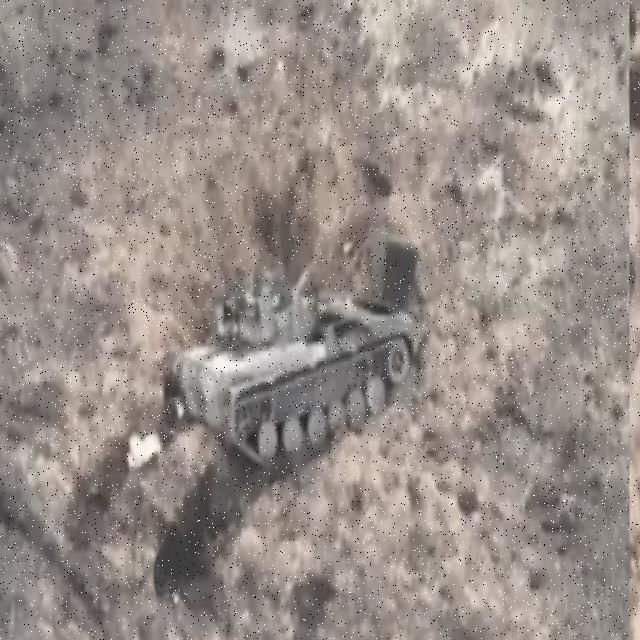APC-IFV: (166, 246, 424, 466)
